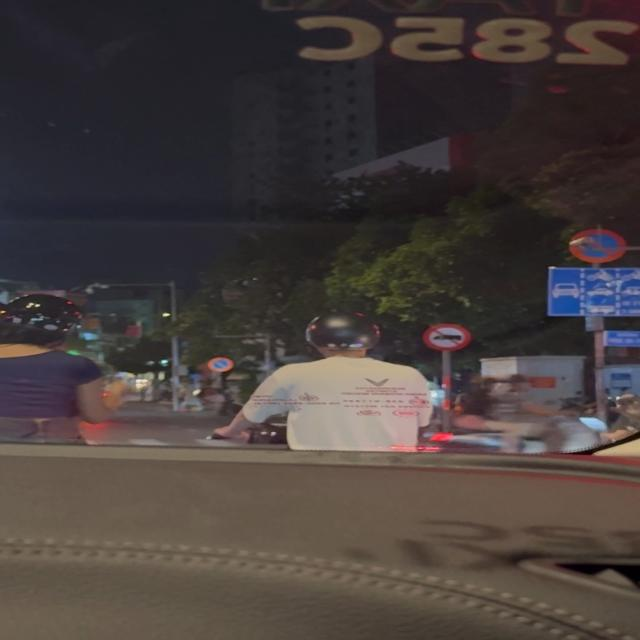Bien bao cam xe so-mi ro-mooc: (420, 321, 474, 352)
